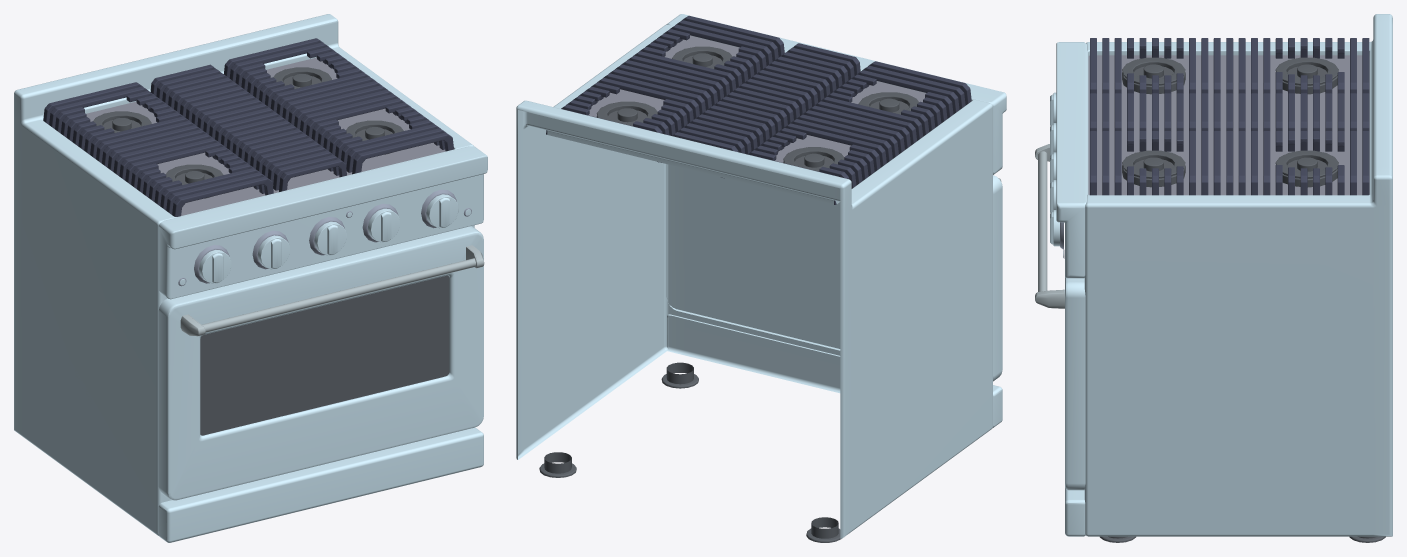
Rendered from PR_oven.fbx.
3 views of the same model, side by side, from view 1: azimuth 30°, elevation 25°; view 2: azimuth 150°, elevation 25°; view 3: azimuth 270°, elevation 25° (orthographic). The views are drawn at different scales.
Parts seen in each view (by area): view 1: Oven; view 2: Oven; view 3: Oven.
Part boxes in pixels (x1=…): Oven: x1=14, y1=14, x2=487, y2=542; Oven: x1=516, y1=14, x2=1006, y2=542; Oven: x1=1035, y1=14, x2=1392, y2=542.
Size of the model in its own units: 14548 by 15472 by 13424.
1 material, 1 textured.
